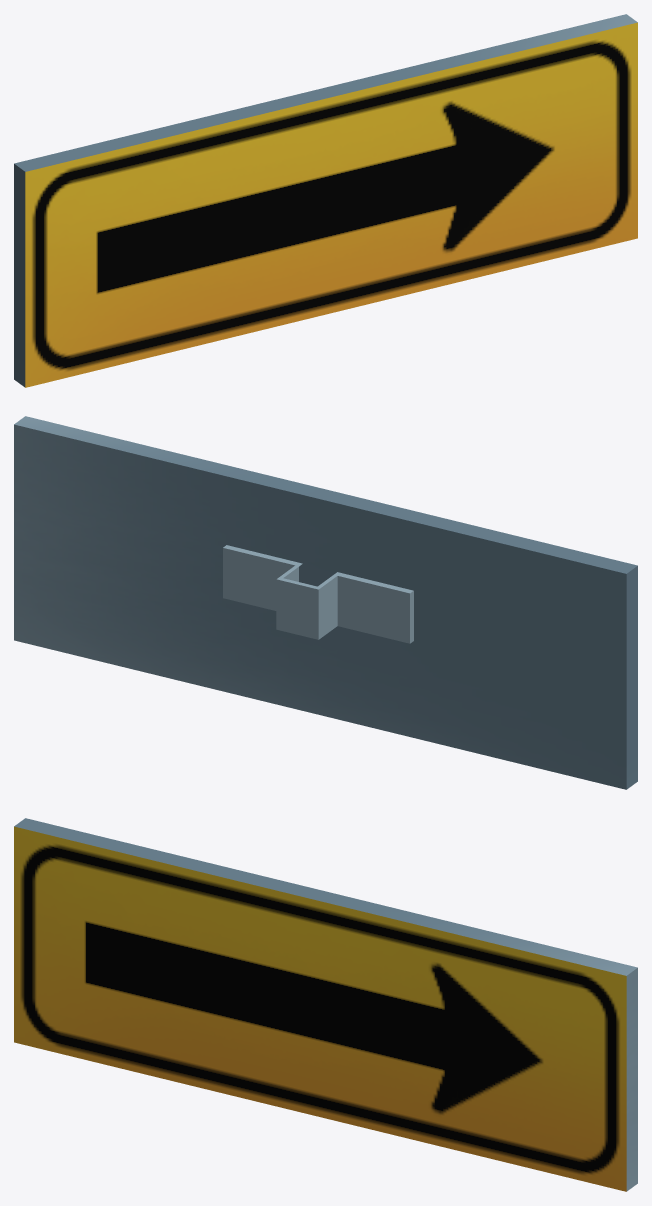
The model's file is Sign47.fbx.
3 renders of one model, top to bottom at view 1: azimuth 30°, elevation 25°; view 2: azimuth 150°, elevation 25°; view 3: azimuth 330°, elevation 25°, orthographic.
Visible parts, largest first — view 1: Sign47; view 2: Sign47; view 3: Sign47.
Boxes of the visible parts, box(x1,y1,x2,y2) form: Sign47: box(14, 14, 637, 387); Sign47: box(14, 416, 637, 789); Sign47: box(14, 818, 637, 1191).
Bounding box in the file's own units: 1.54 × 0.1489 × 0.5195.
